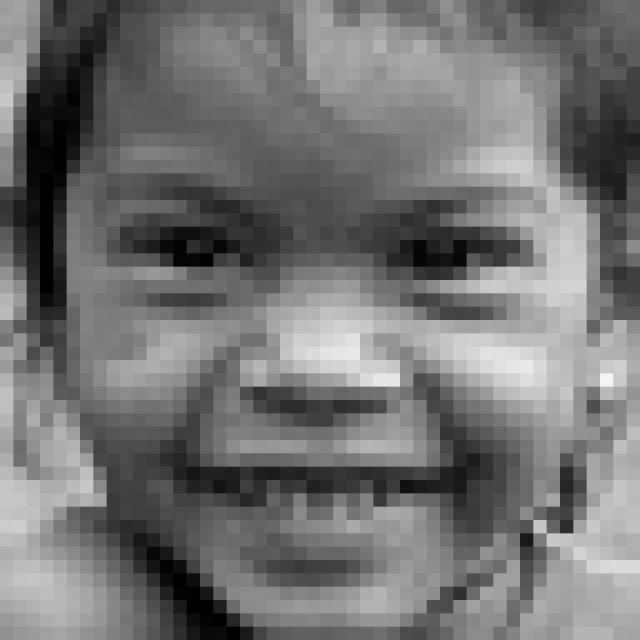happy: (90, 166, 565, 592)
